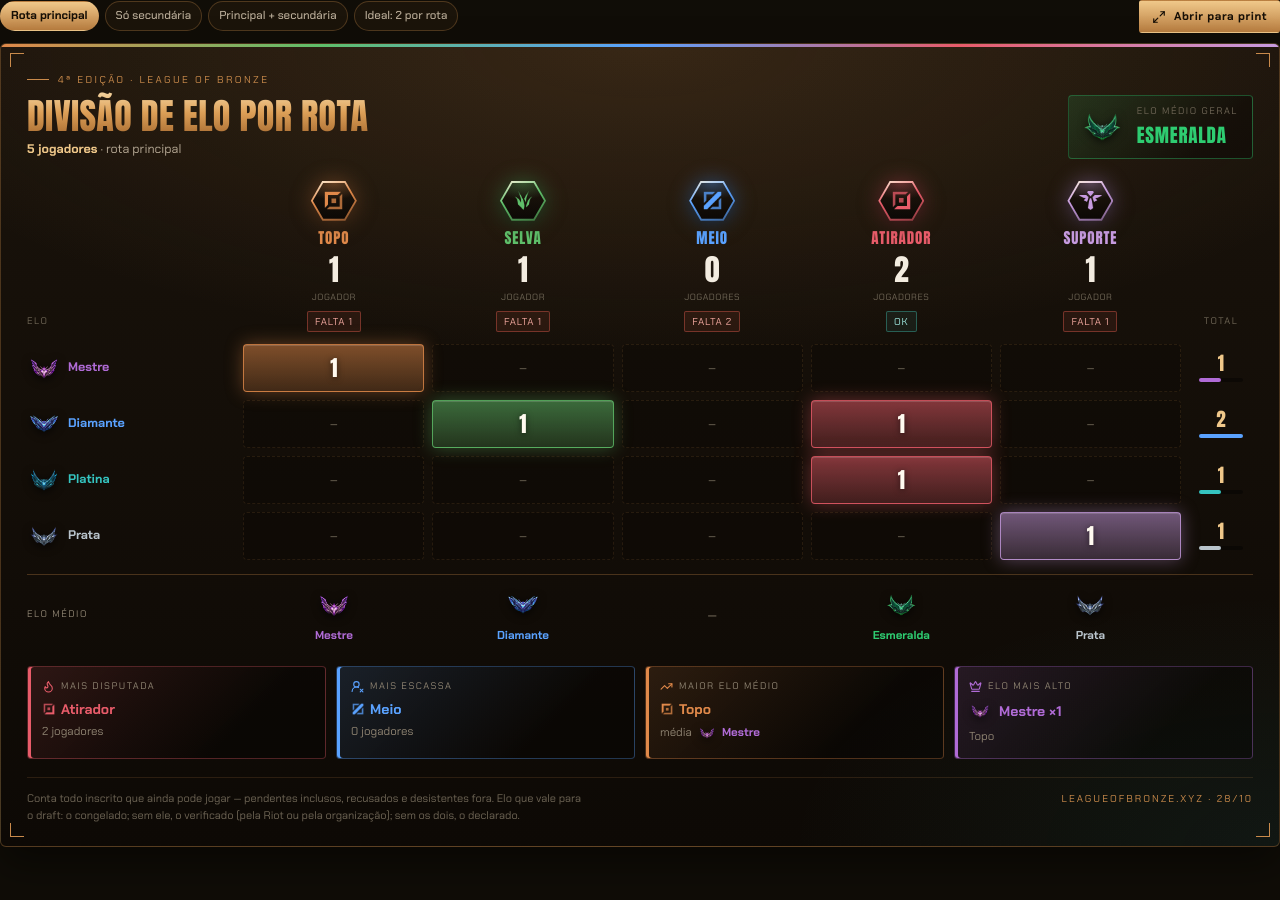
Test case: <EloPorRota> › só a secundária: a matriz conta a segunda rota e não mostra cobertura
This screenshot has width=1280, height=900.
Click the button "Só secundária": [153, 16] box x1=105 y1=1 x2=202 y2=31
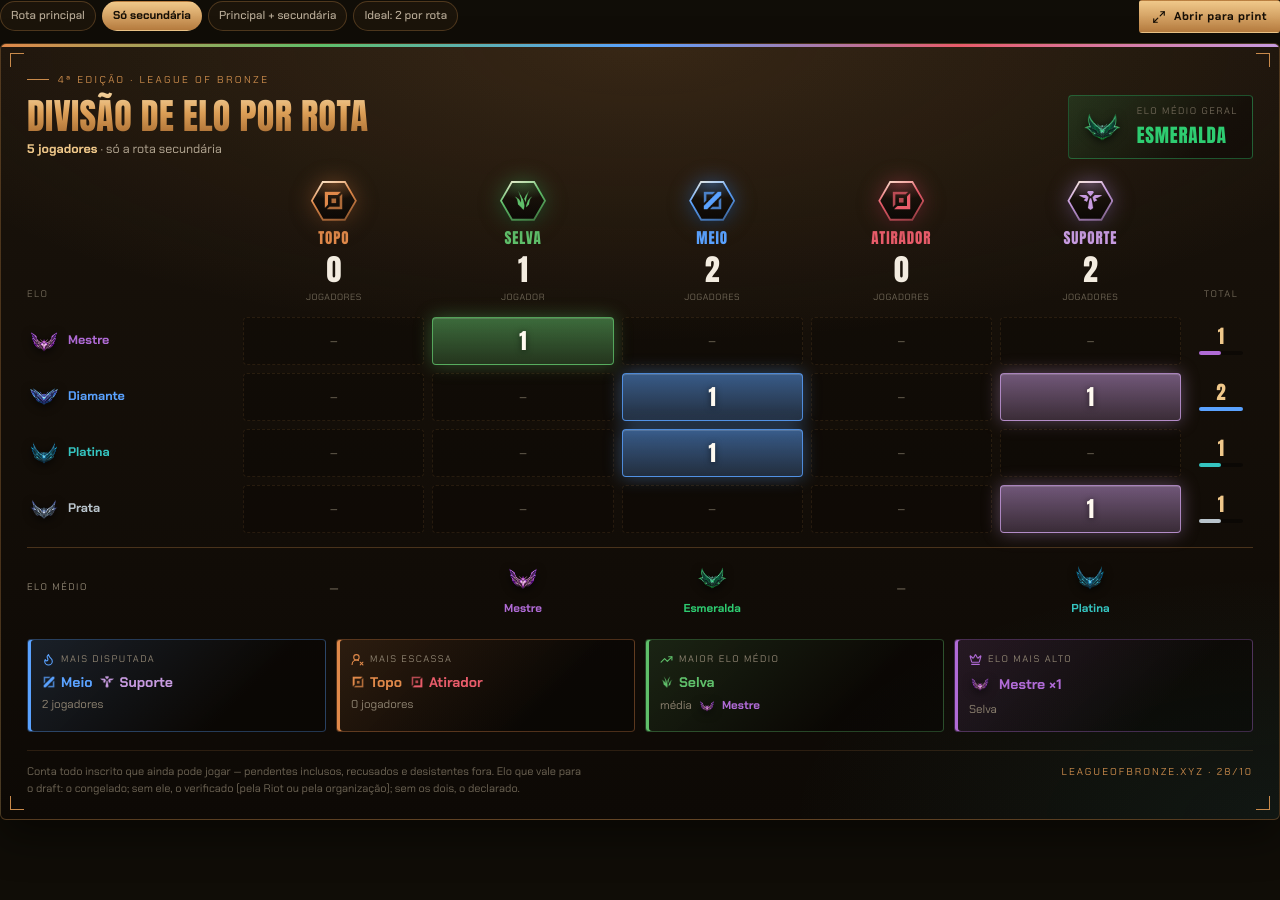
Expected: the text "5 jogadores · só a rota secundária" is shown, x1=27 y1=141 x2=222 y2=157
Expected: the cell named "Meio, Diamante: 1" is shown, x1=622 y1=373 x2=803 y2=421
Expected: the cell named "Atirador, Diamante: 0" is shown, x1=811 y1=373 x2=992 y2=421
